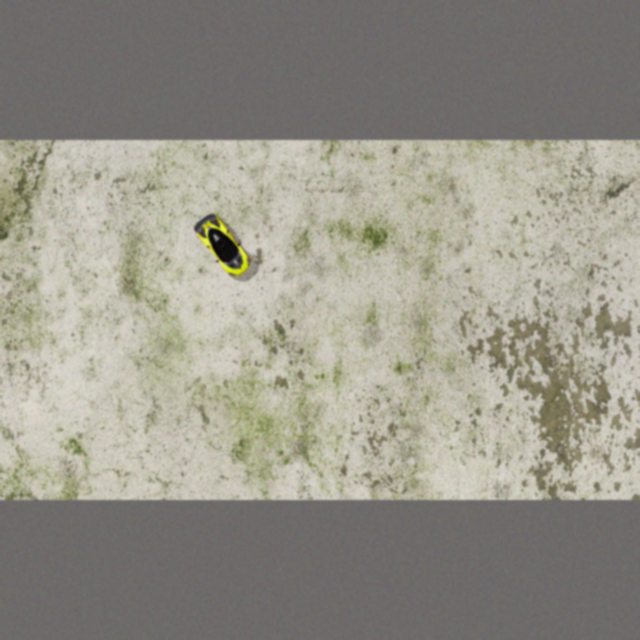car: (189, 208, 257, 281)
